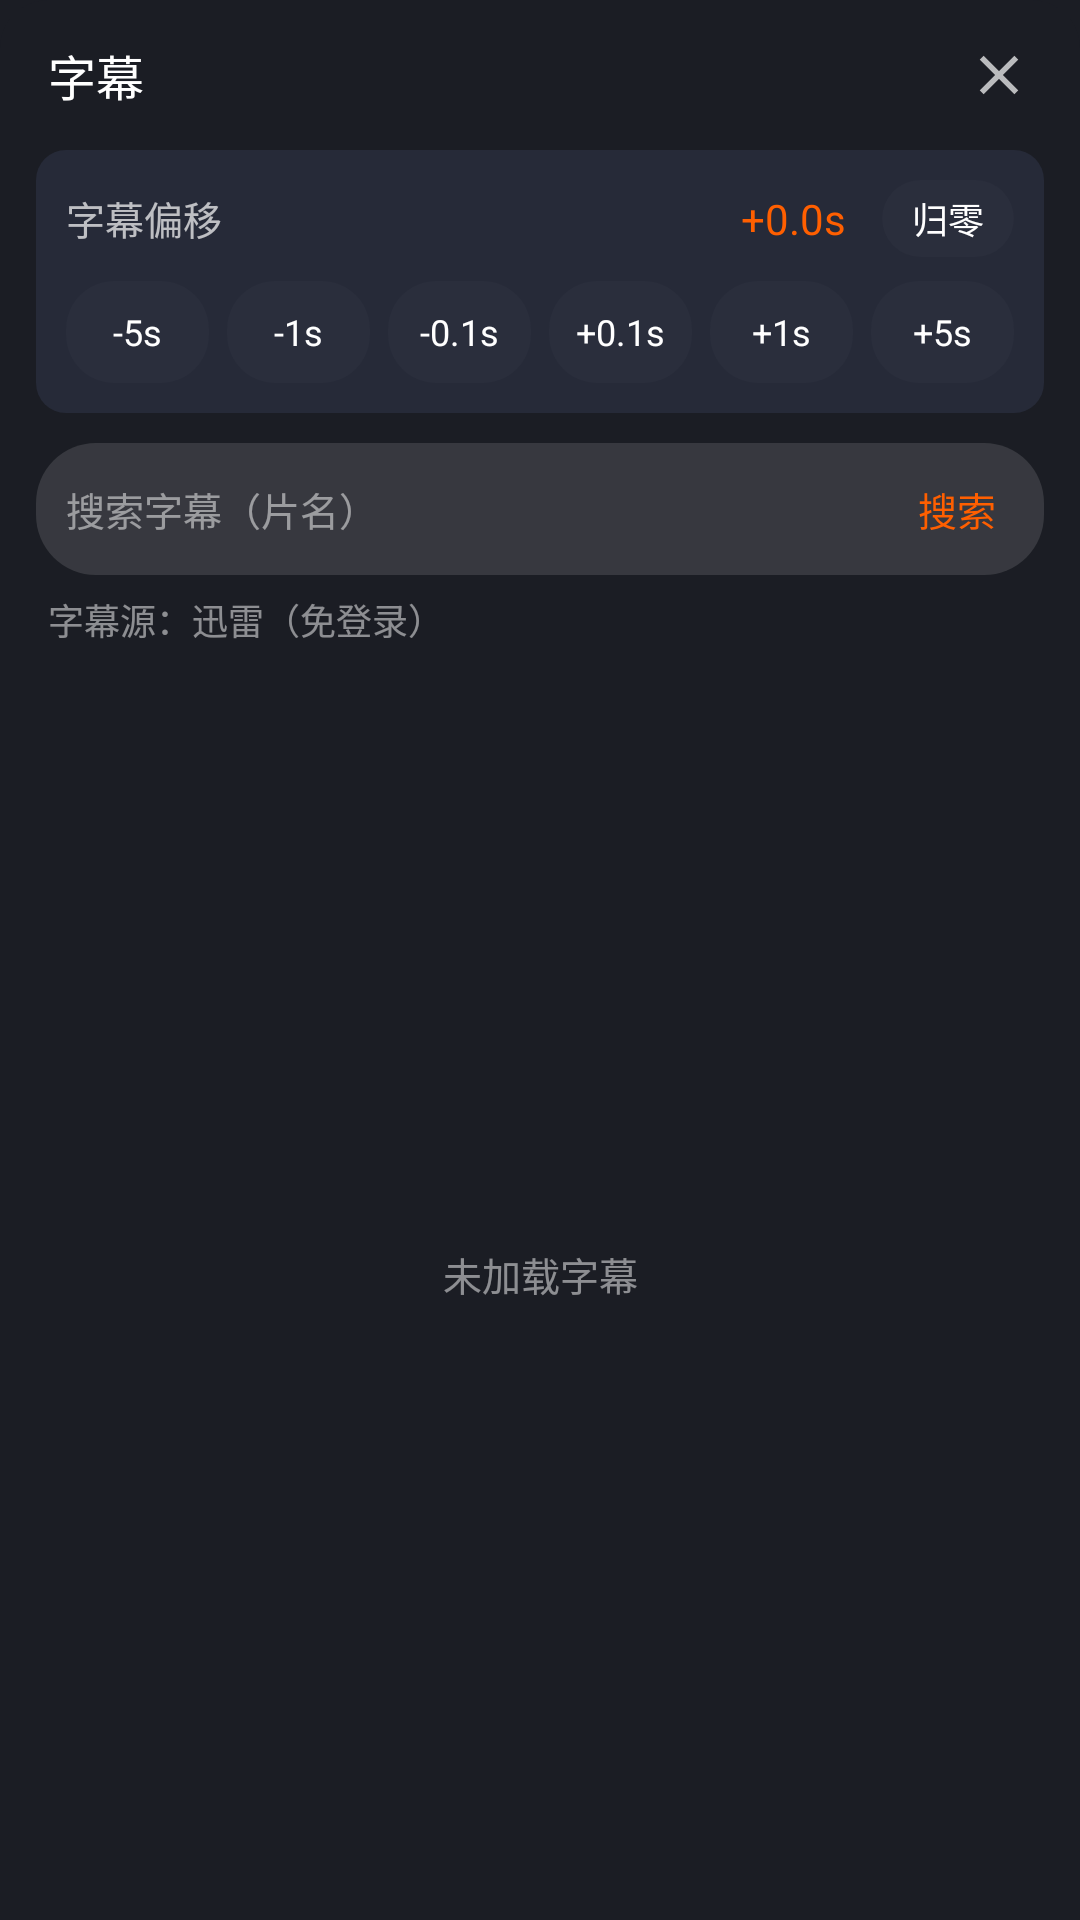

Named icons in this screenshot (1080 x 1920) and their centers, (x=x, y=y):
close: (x=999, y=75)
